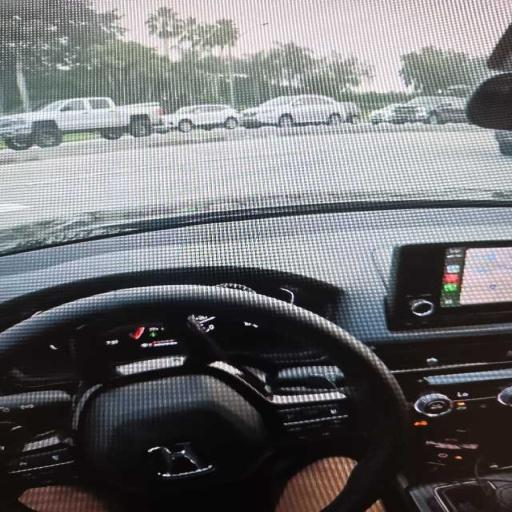car: (0, 0, 511, 511), (241, 95, 359, 127), (390, 96, 468, 124), (165, 105, 239, 132), (370, 103, 400, 124), (495, 130, 511, 156)
lane: (0, 130, 511, 225)
truck: (0, 98, 162, 150)
